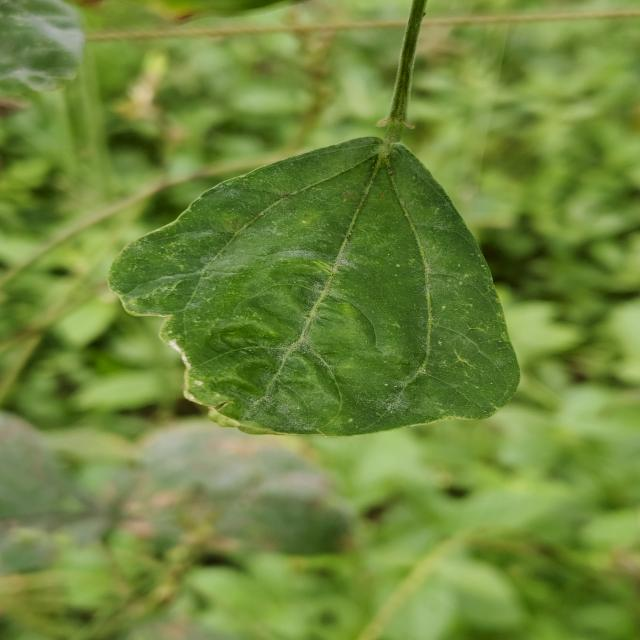sitaw-aphid-high: (109, 115, 520, 438)
